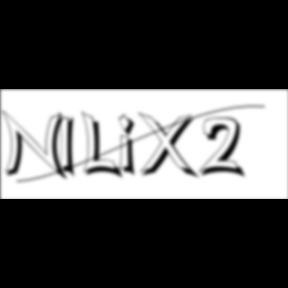2: (199, 117, 249, 181)
I: (58, 110, 82, 182)
L: (82, 110, 126, 182)
N: (2, 109, 72, 183)
X: (137, 112, 201, 182)
i: (119, 112, 143, 180)
